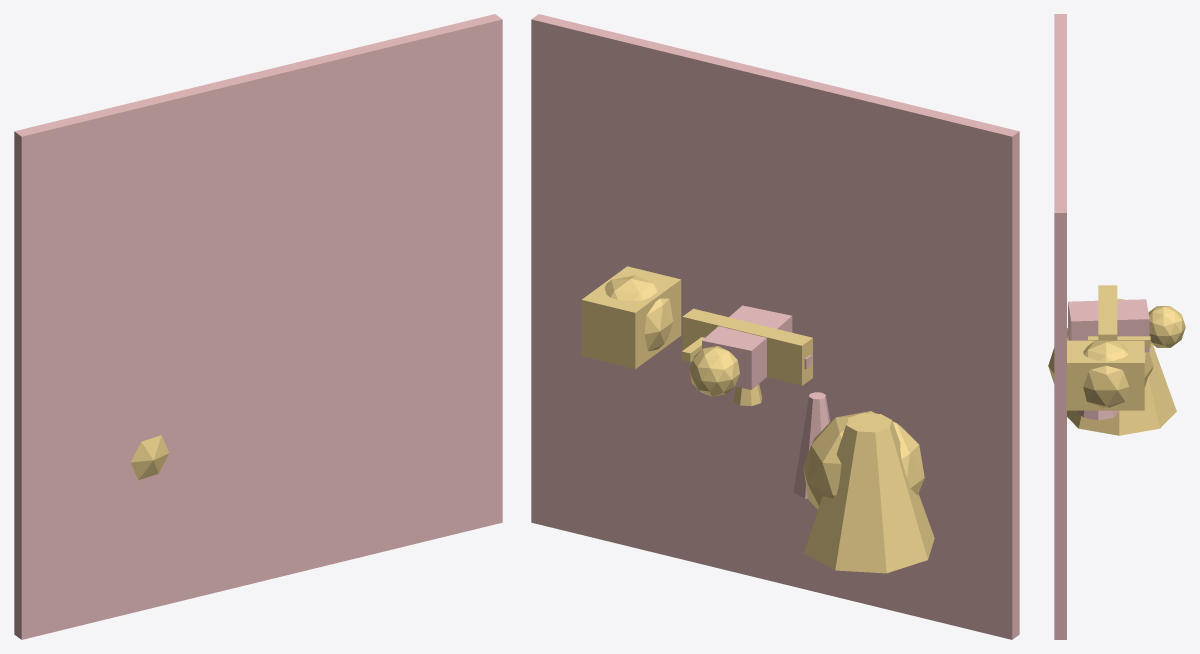
Rendered from starship-echoes-kit.glb.
3 renders of one model, left to right at view 1: azimuth 30°, elevation 25°; view 2: azimuth 150°, elevation 25°; view 3: azimuth 270°, elevation 25°, orthographic. The views are drawn at different scales.
Parts seen in each view (by area): view 1: ENVIRONMENT_GROUND, PROFILE_ENVIRONMENT_DETAIL; view 2: ENVIRONMENT_GROUND, ENVIRONMENT_LANDMARK, PROFILE_OBSTACLE_DETAIL, PROFILE_PLAYER_DETAIL, PROFILE_ENVIRONMENT_DETAIL, PLAYER_BODY, OBSTACLE, PLAYER_HEAD, PROFILE_ENVIRONMENT_SPIRE; view 3: ENVIRONMENT_GROUND, PROFILE_OBSTACLE_DETAIL, ENVIRONMENT_LANDMARK, PLAYER_BODY, OBSTACLE, PLAYER_HEAD, PROFILE_PLAYER_DETAIL, PROFILE_ENVIRONMENT_DETAIL, PROFILE_ENVIRONMENT_SPIRE, PLAYER_TOOL.
Part boxes in pixels (<box>): ENVIRONMENT_GROUND: <box>14,14,502,639</box>; PROFILE_ENVIRONMENT_DETAIL: <box>130,435,169,480</box>; ENVIRONMENT_GROUND: <box>531,14,1019,639</box>; ENVIRONMENT_LANDMARK: <box>804,413,934,573</box>; PROFILE_OBSTACLE_DETAIL: <box>581,266,681,369</box>; PROFILE_PLAYER_DETAIL: <box>682,308,812,385</box>; PROFILE_ENVIRONMENT_DETAIL: <box>803,411,924,509</box>; PLAYER_BODY: <box>702,305,792,389</box>; OBSTACLE: <box>604,275,673,351</box>; PLAYER_HEAD: <box>689,346,739,396</box>; PROFILE_ENVIRONMENT_SPIRE: <box>793,392,830,498</box>; ENVIRONMENT_GROUND: <box>1054,14,1066,639</box>; PROFILE_OBSTACLE_DETAIL: <box>1067,340,1144,410</box>; ENVIRONMENT_LANDMARK: <box>1067,298,1176,435</box>; PLAYER_BODY: <box>1068,299,1149,352</box>; OBSTACLE: <box>1083,340,1128,407</box>; PLAYER_HEAD: <box>1148,306,1185,347</box>; PROFILE_PLAYER_DETAIL: <box>1098,285,1117,340</box>; PROFILE_ENVIRONMENT_DETAIL: <box>1048,328,1153,387</box>; PROFILE_ENVIRONMENT_SPIRE: <box>1077,410,1119,420</box>; PLAYER_TOOL: <box>1088,336,1150,347</box>.
Size of what is drawn, in the model's own units: 9 by 9 by 2.63.
